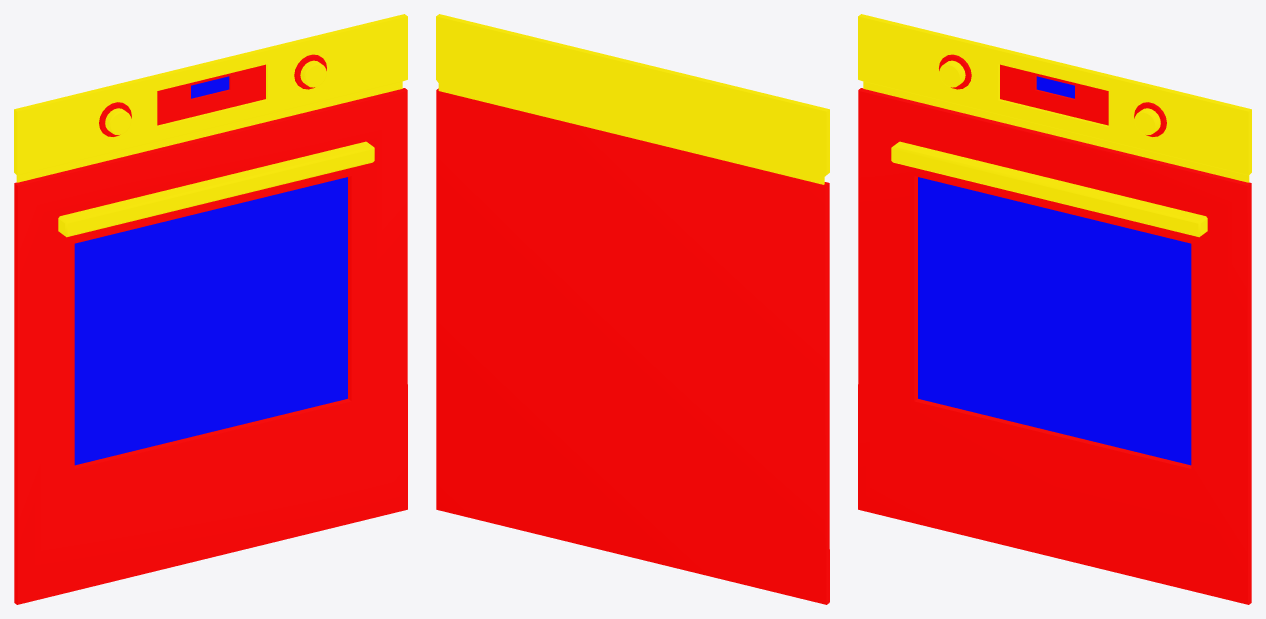
File: Ofen.fbx
3 views of the same model, side by side, from view 1: azimuth 30°, elevation 25°; view 2: azimuth 150°, elevation 25°; view 3: azimuth 330°, elevation 25° (orthographic).
Visible parts, largest first — view 1: Ofen; view 2: Ofen; view 3: Ofen.
Part boxes in pixels (left/top/right/bottom): Ofen: left=14, top=14, right=407, bottom=604; Ofen: left=436, top=14, right=829, bottom=604; Ofen: left=858, top=14, right=1251, bottom=604.
Bounding box in the file's own units: 60 × 72.45 × 3.13.
